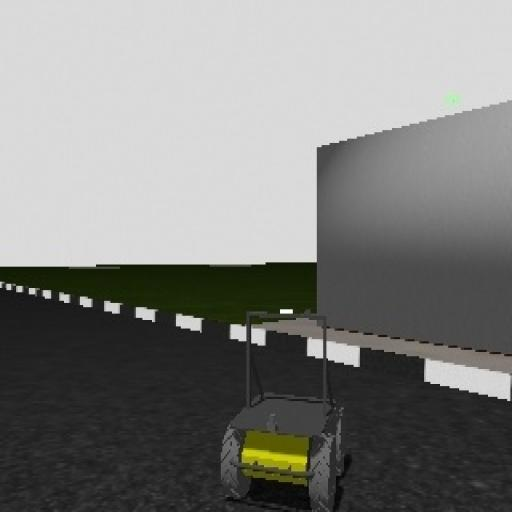huskya200: (217, 298, 354, 512)
